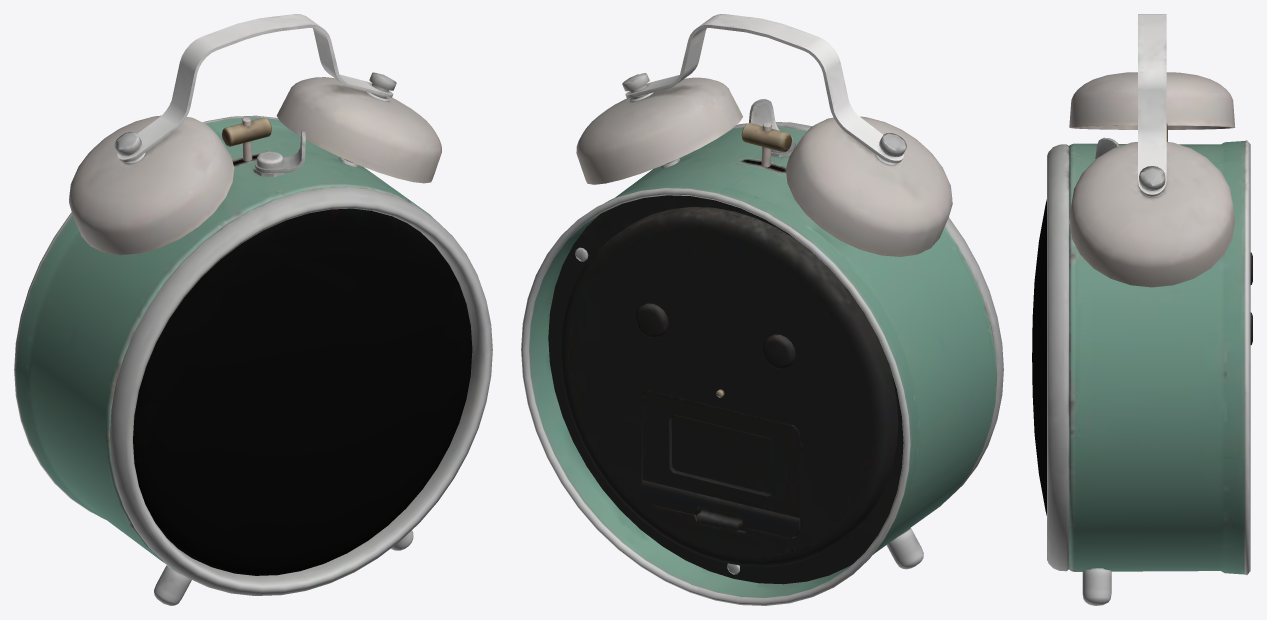
File: wecker.glb
3 views of the same model, side by side, from view 1: azimuth 30°, elevation 25°; view 2: azimuth 150°, elevation 25°; view 3: azimuth 270°, elevation 25° (orthographic). The views are drawn at different scales.
Visible parts, largest first — view 1: alarm_clock_01; view 2: alarm_clock_01; view 3: alarm_clock_01.
Boxes of the visible parts, x1,y1,x2,y2 form: alarm_clock_01: (14,14,492,605); alarm_clock_01: (521,14,1003,605); alarm_clock_01: (1032,14,1252,605).
Size of the model in its own units: 0.1316 by 0.1741 by 0.0667.
Materials: 2 (2 with a texture image).
